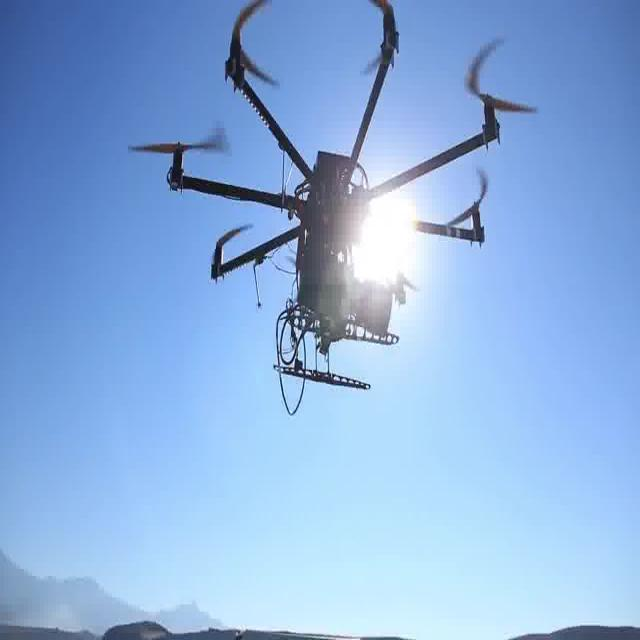drone: (122, 0, 541, 411)
